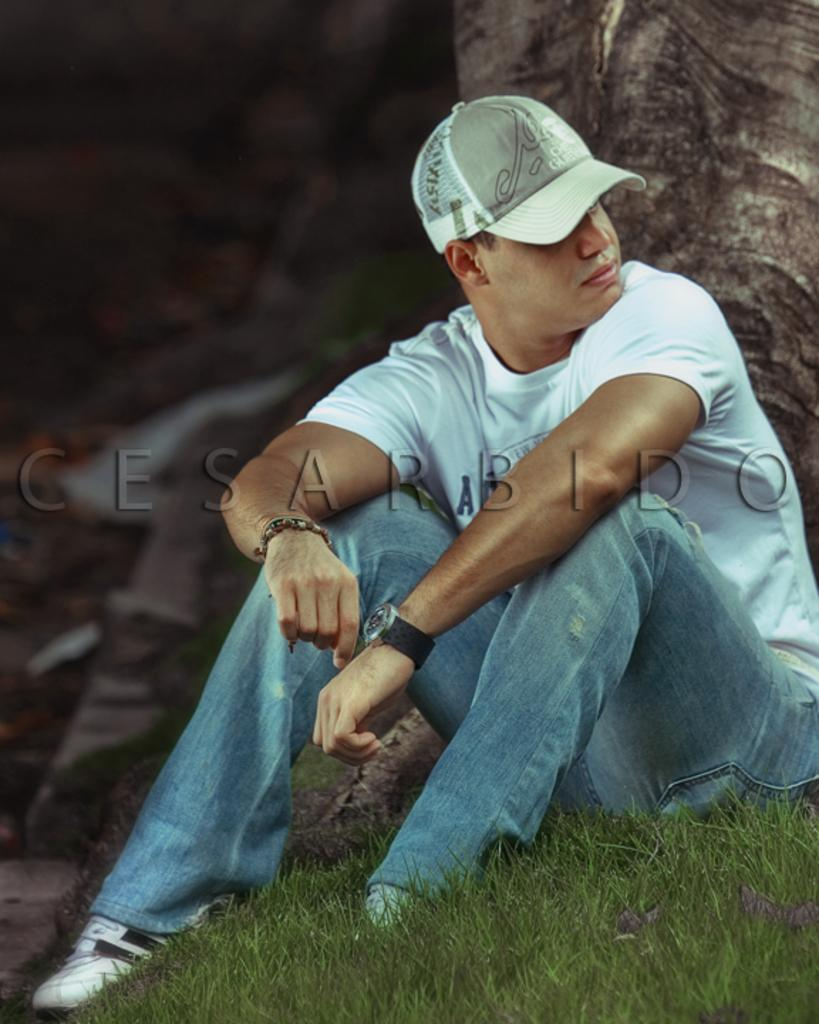Hat: (409, 98, 646, 248)
